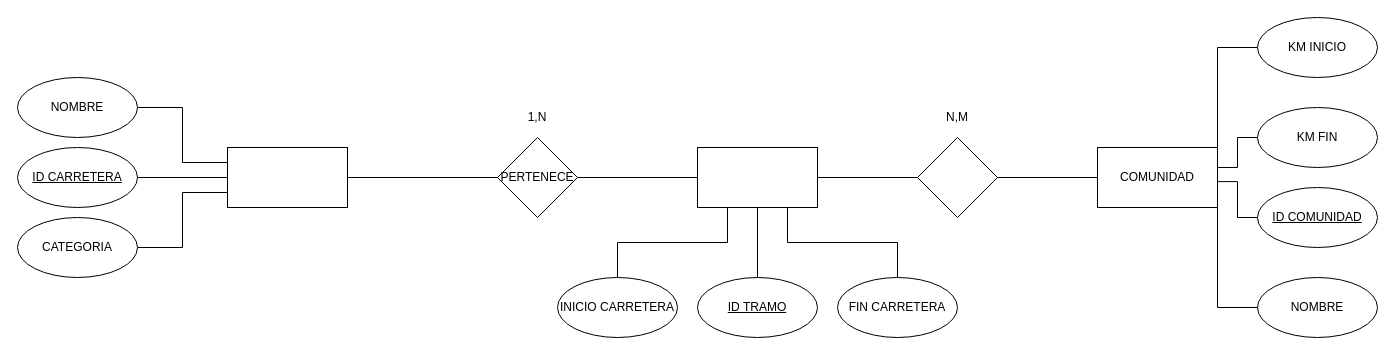
The diagram is 1395 pixels wide and 355 high, and some of its shapes have lost their labels. Each missing label, with the centre of its shape:
"CARRETERA" belongs at point (287, 177).
"PASA" belongs at point (957, 177).
"TRAMO" belongs at point (757, 177).
